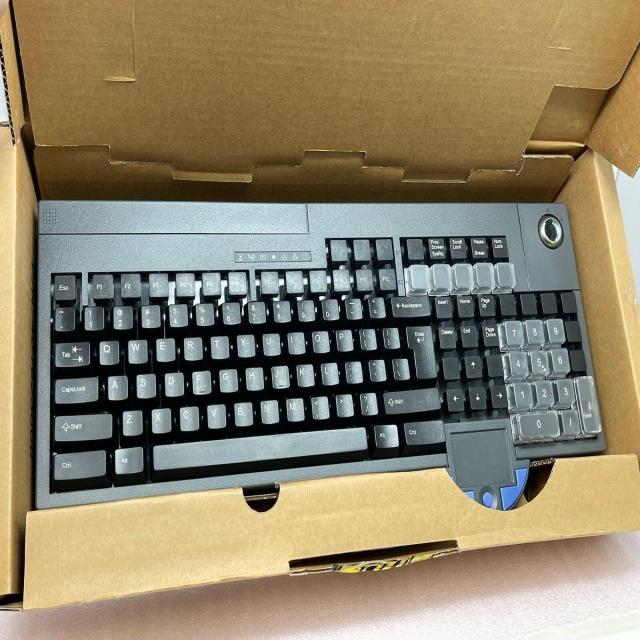keyboard: (35, 194, 608, 511)
